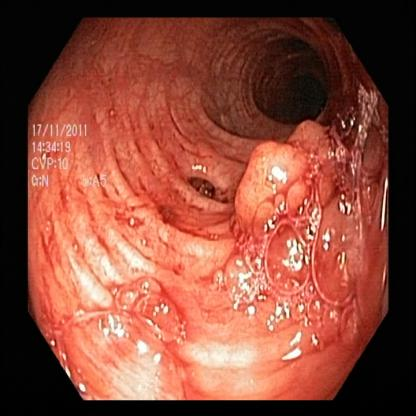Labels: (28, 114, 112, 198)
Polyps: (233, 101, 348, 247)
